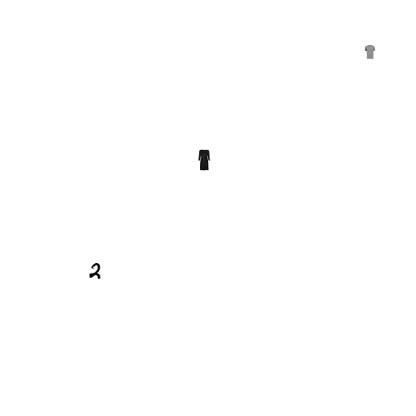0: (287, 242, 371, 326)
1: (237, 308, 293, 364)
7: (136, 360, 164, 388)
9: (16, 182, 128, 294)
Shirt: (332, 346, 354, 368)
